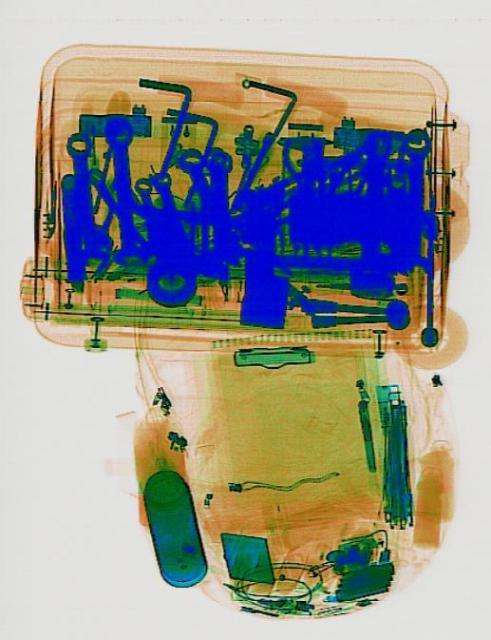Wrench: (101, 115, 146, 267), (65, 128, 109, 280)
